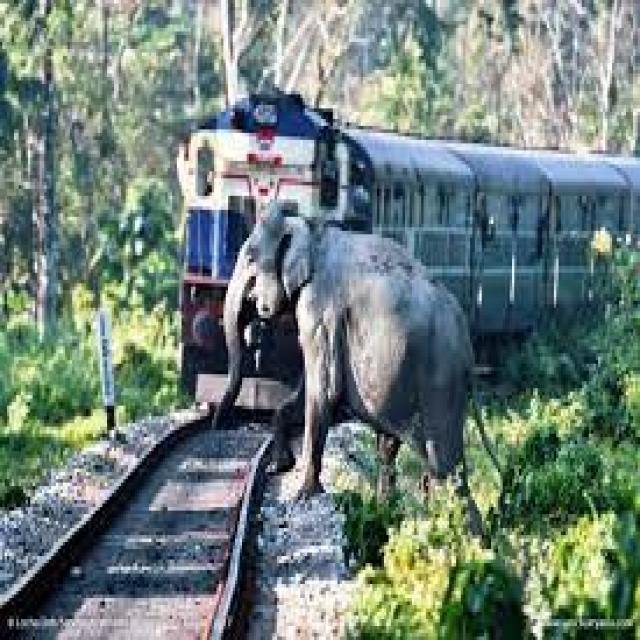Elephant: (217, 190, 514, 573)
